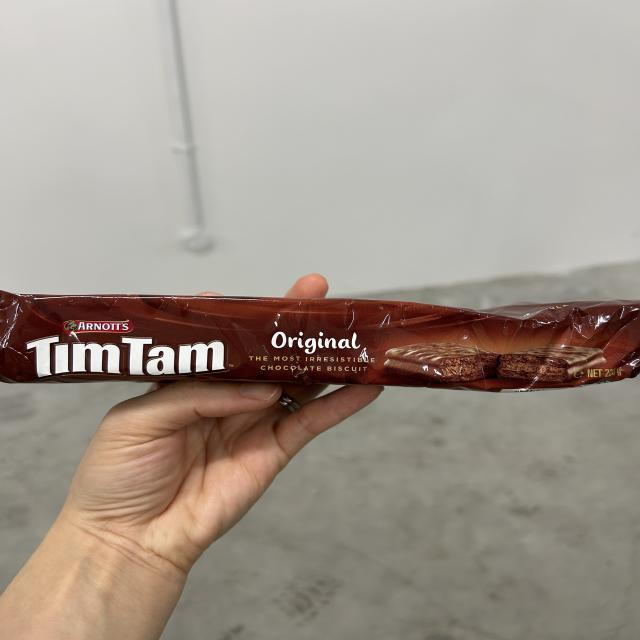object_name: (1, 292, 640, 380)
